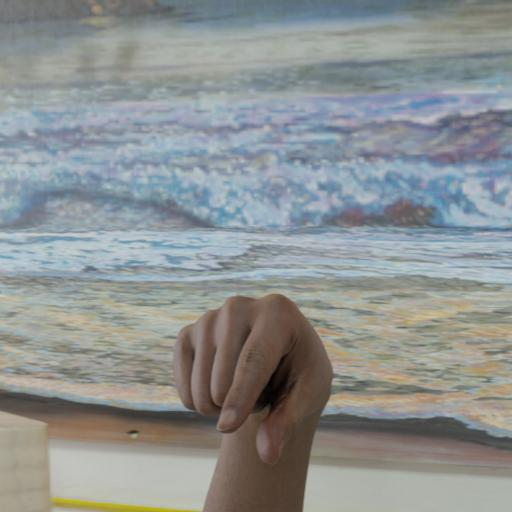Q: (165, 275, 350, 477)
